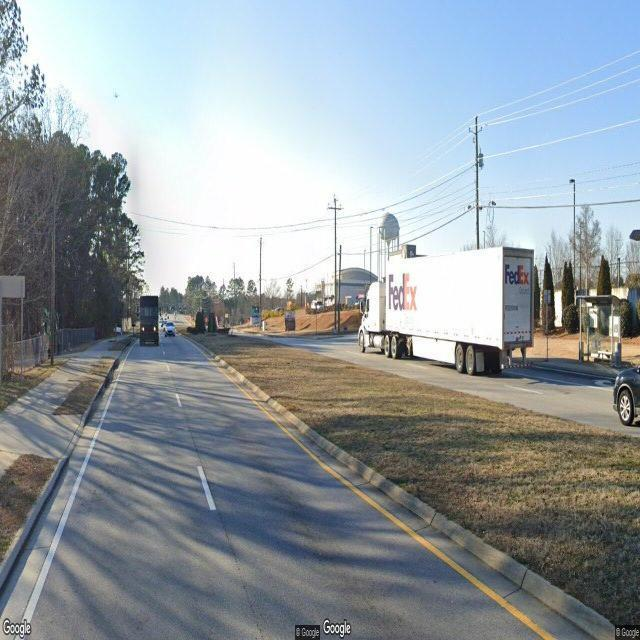seating: (598, 350, 615, 367)
shelter: (576, 294, 624, 368)
trash_can: (614, 342, 622, 368)
